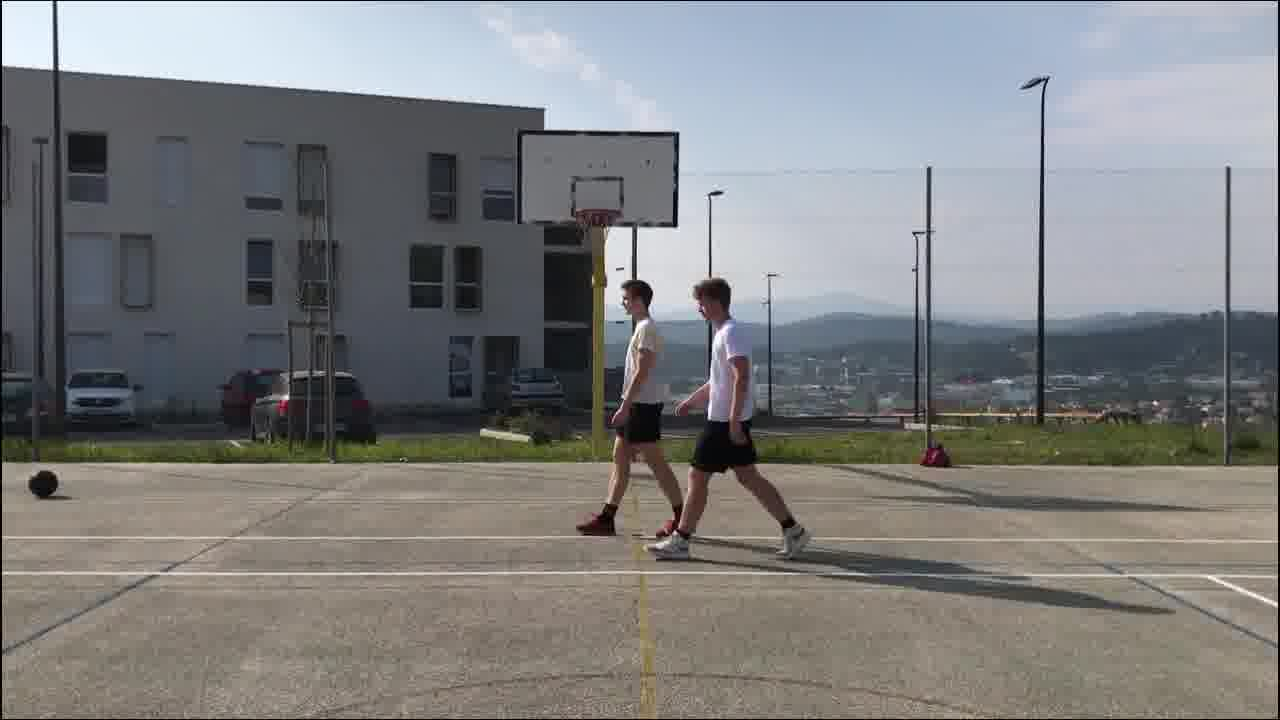jugador: (563, 271, 704, 551)
